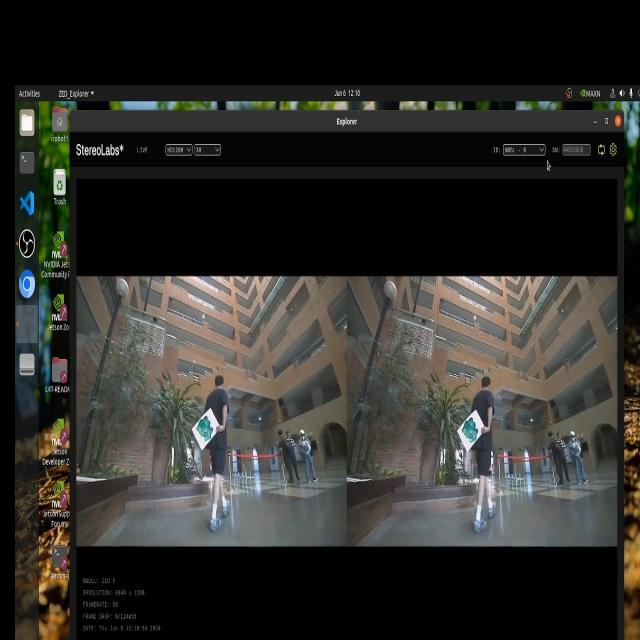green: (194, 412, 221, 450), (454, 414, 480, 442)
